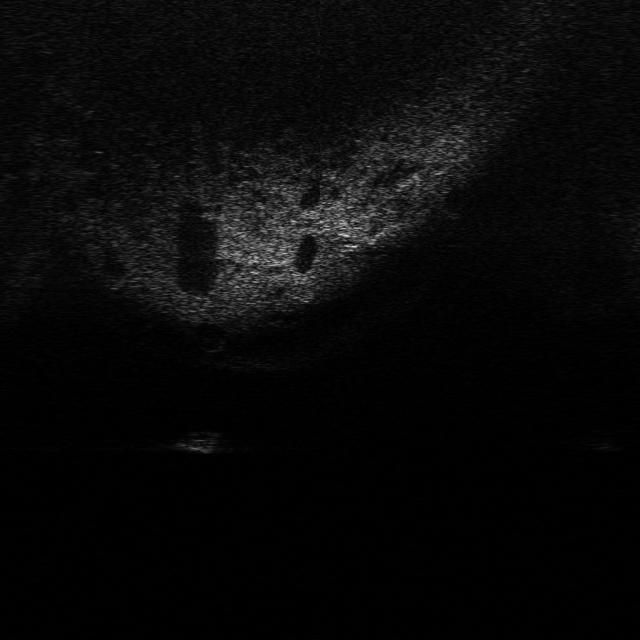ball: (290, 276, 330, 306)
cube: (167, 428, 222, 456)
